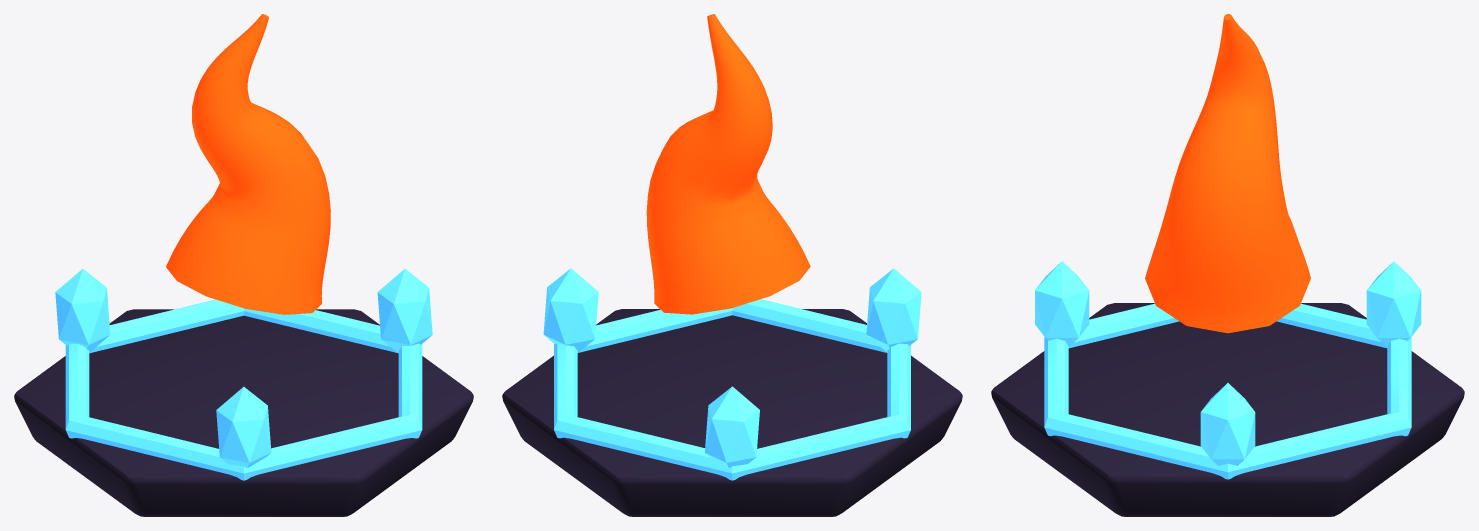
File: pu_fire_up.glb
3 renders of one model, left to right at view 1: azimuth 30°, elevation 25°; view 2: azimuth 150°, elevation 25°; view 3: azimuth 270°, elevation 25°, orthographic. The views are drawn at different scales.
Parts seen in each view (by area): view 1: pu_fire_up; view 2: pu_fire_up; view 3: pu_fire_up.
Boxes of the visible parts, x1,y1,x2,y2 form: pu_fire_up: (14, 14, 473, 516); pu_fire_up: (502, 14, 962, 516); pu_fire_up: (991, 14, 1464, 516).
Size of the model in its own units: 0.6767 by 0.7528 by 0.741.
